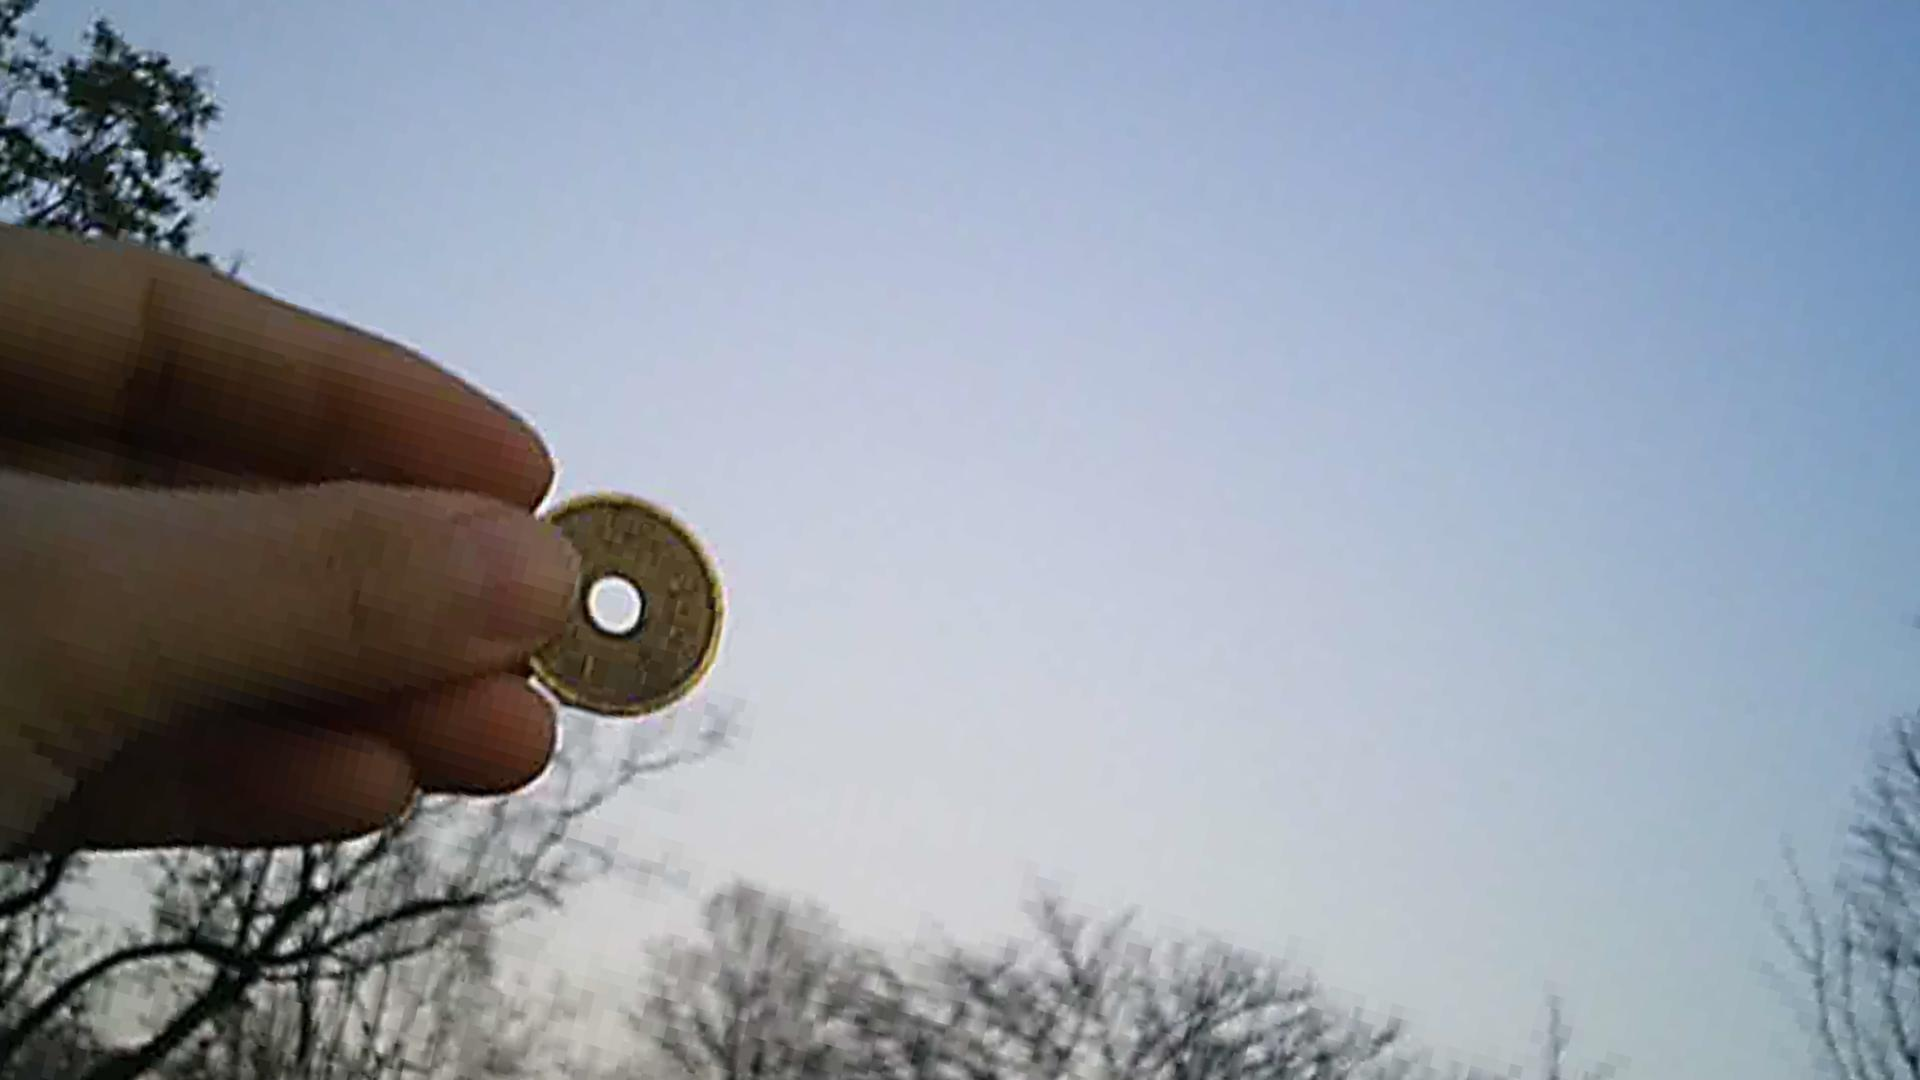5 Yen: (488, 480, 752, 733)
